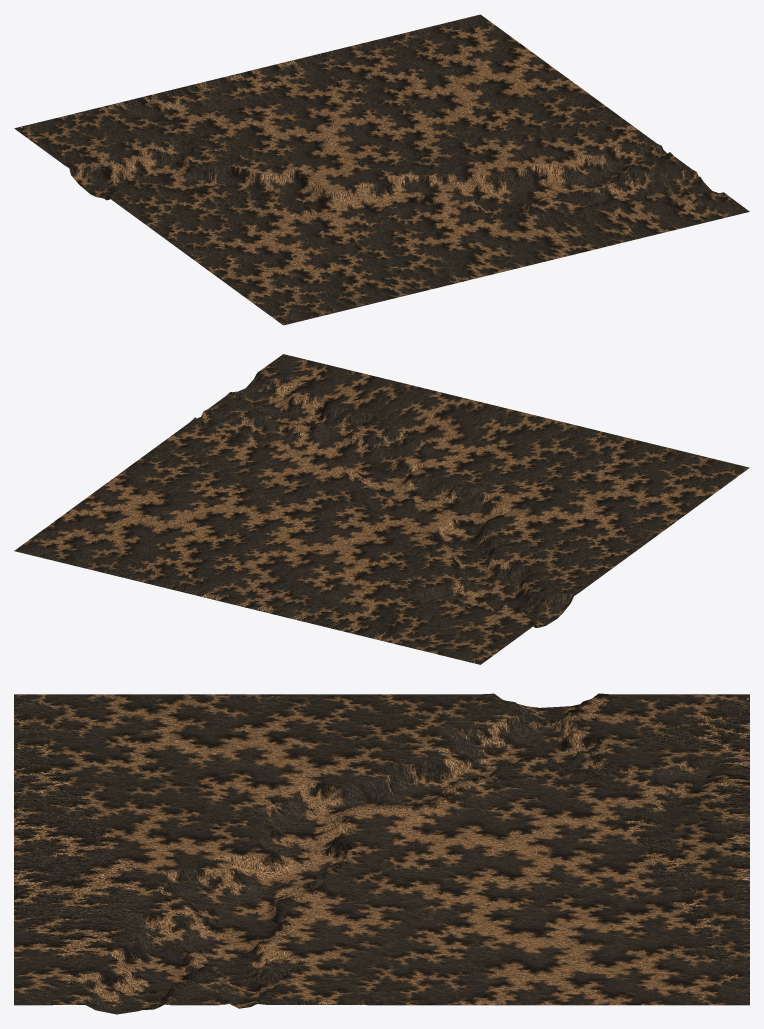
File: terrain.obj
3 renders of one model, top to bottom at view 1: azimuth 30°, elevation 25°; view 2: azimuth 150°, elevation 25°; view 3: azimuth 270°, elevation 25°, orthographic. The views are drawn at different scales.
Visible parts, largest first — view 1: Valley; view 2: Valley; view 3: Valley.
Part boxes in pixels (left/top/right/bottom): Valley: left=14, top=14, right=749, bottom=325; Valley: left=14, top=354, right=749, bottom=664; Valley: left=14, top=693, right=749, bottom=1014.
Size of the model in its own units: 61.47 by 1.62 by 61.44.
